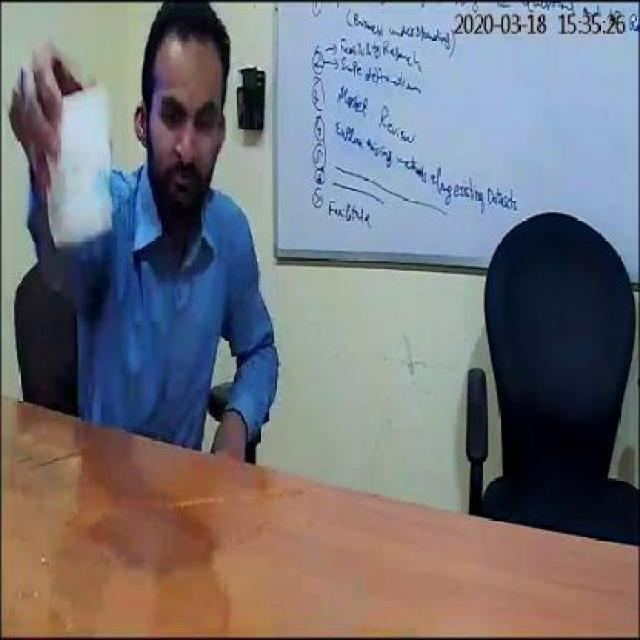spill: (138, 464, 308, 514)
